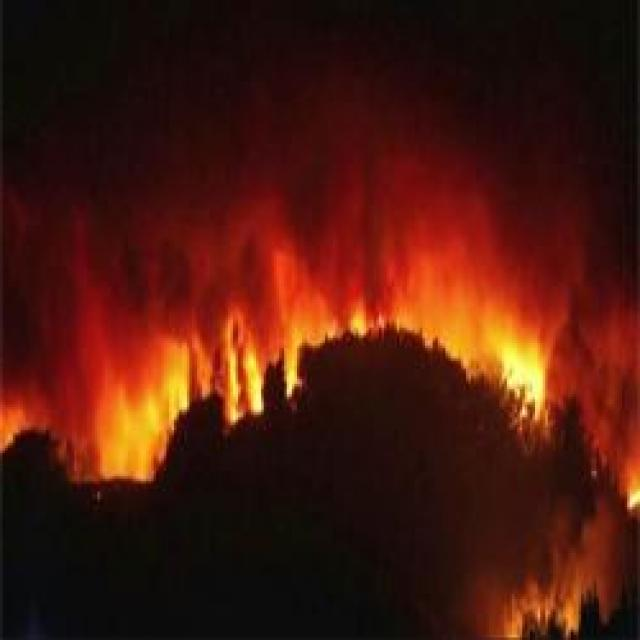fire: (98, 358, 182, 478), (218, 342, 266, 424), (496, 326, 542, 408)
smoke: (351, 154, 491, 276), (1, 210, 112, 361), (188, 178, 329, 276), (598, 328, 638, 443)
